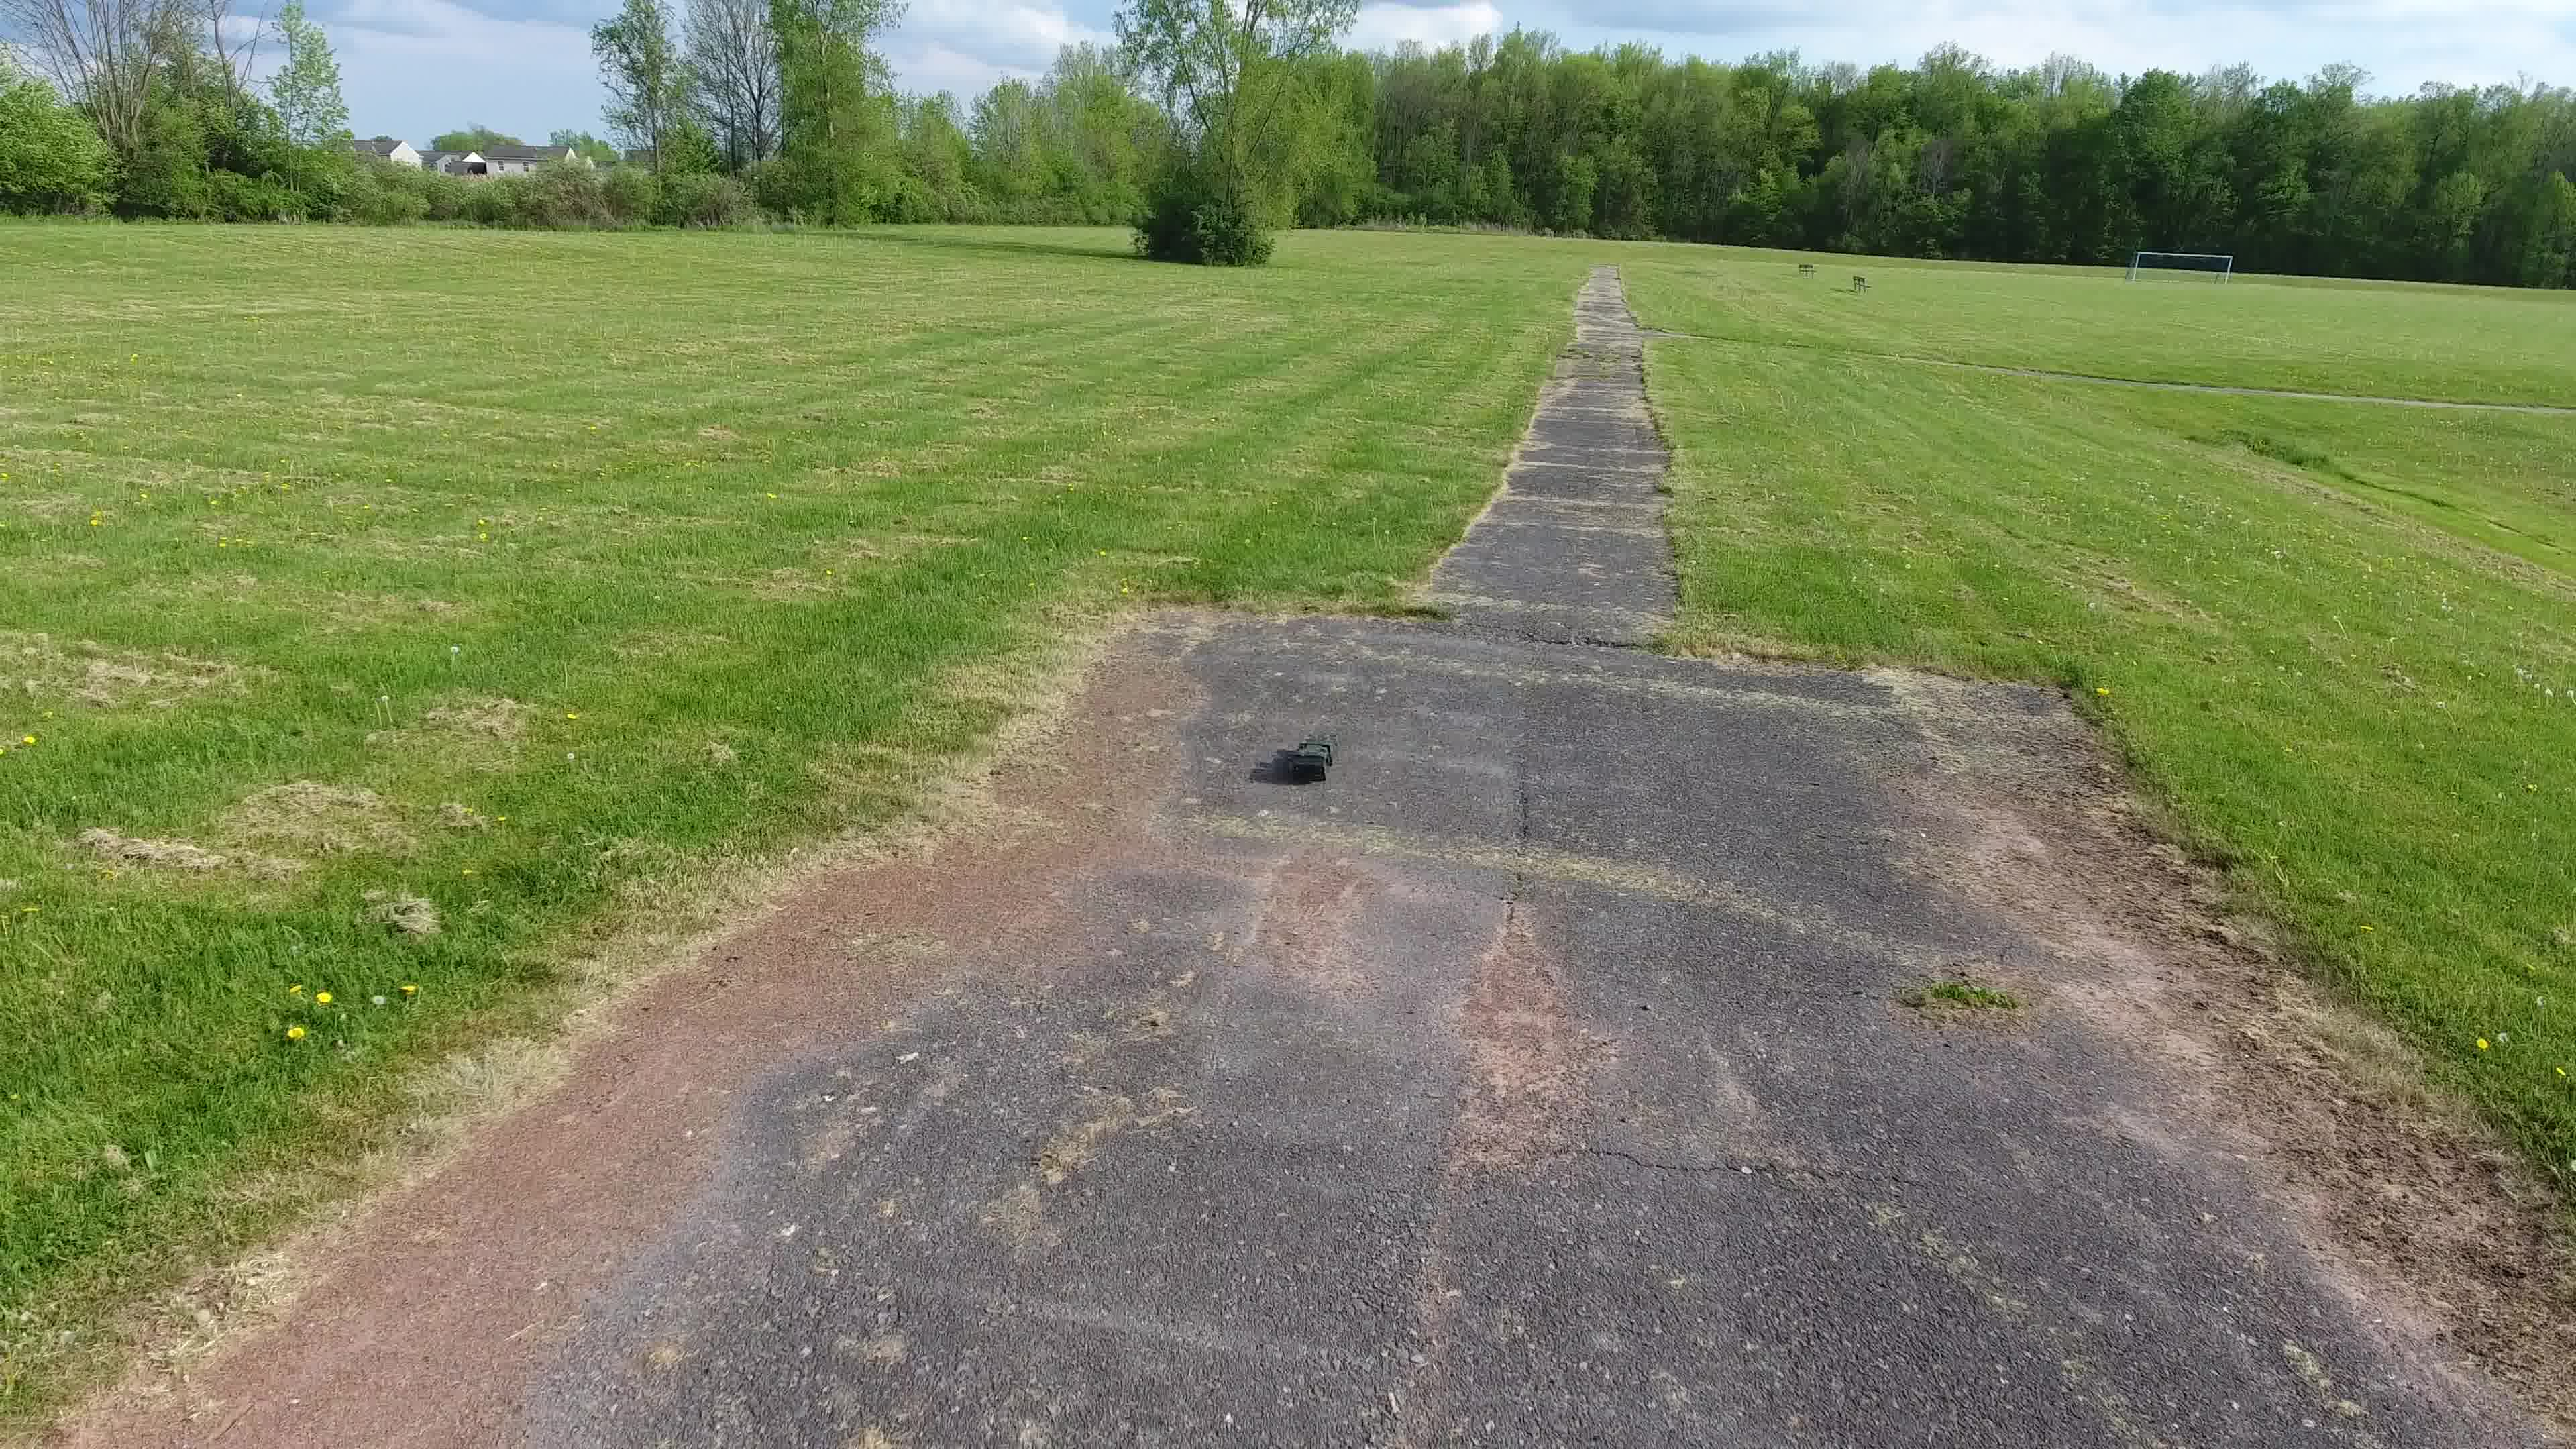transporter9: (1283, 731, 1339, 786)
